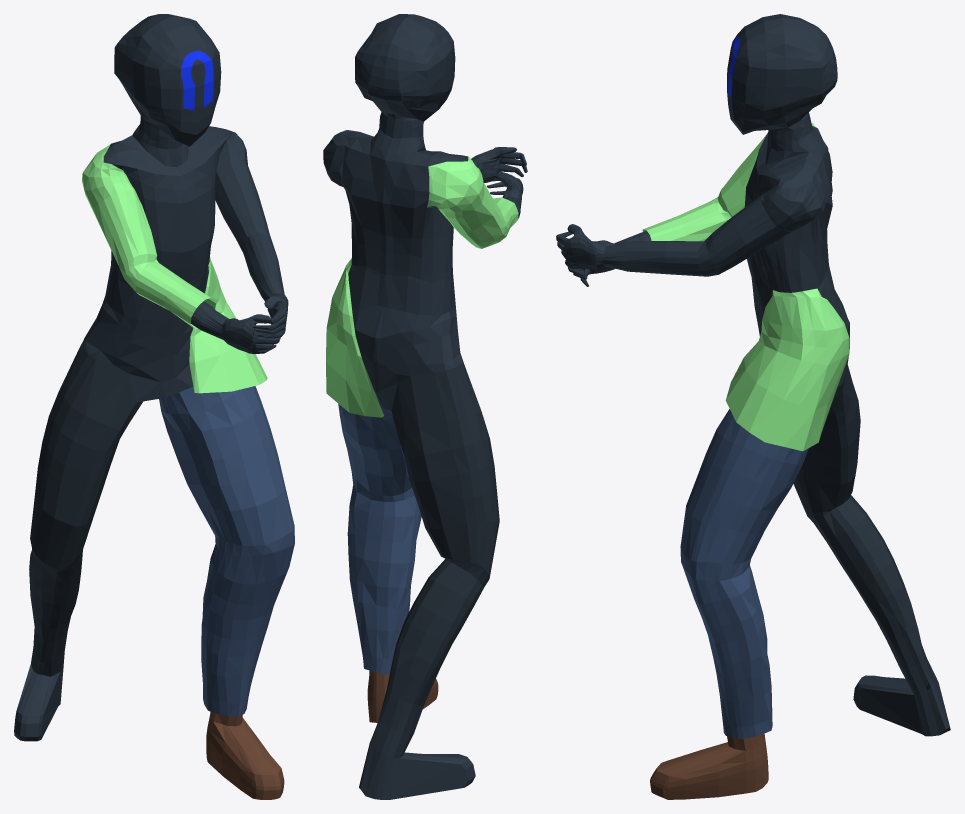
Rendered from Mar_WF_000007.obj.
3 views of the same model, side by side, from view 1: azimuth 30°, elevation 25°; view 2: azimuth 150°, elevation 25°; view 3: azimuth 270°, elevation 25° (orthographic). The views are drawn at different scales.
Visible parts, largest first — view 1: Cube.000_Cube.001; view 2: Cube.000_Cube.001; view 3: Cube.000_Cube.001.
Part boxes in pixels (<box>): Cube.000_Cube.001: <box>14,14,294,799</box>; Cube.000_Cube.001: <box>323,14,527,799</box>; Cube.000_Cube.001: <box>556,14,950,799</box>.
Bounding box in the file's own units: 1.08 × 3.83 × 1.82.
